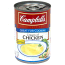grozi_110: (14, 0, 51, 63)
